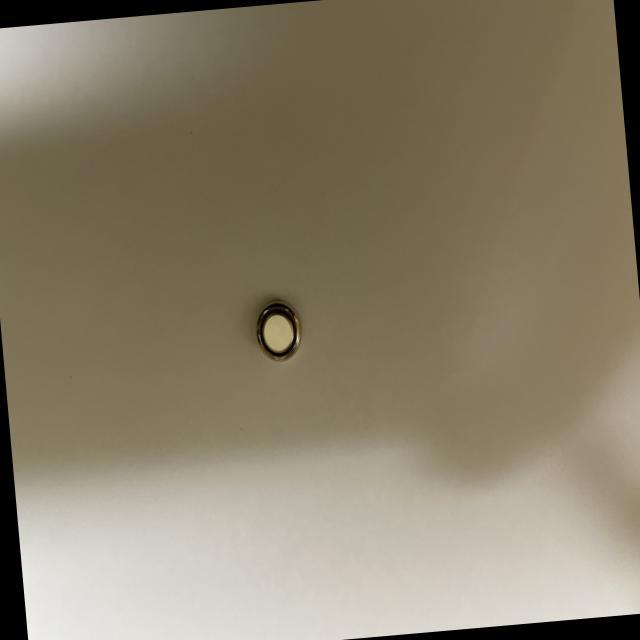COIN: (252, 297, 304, 365)
